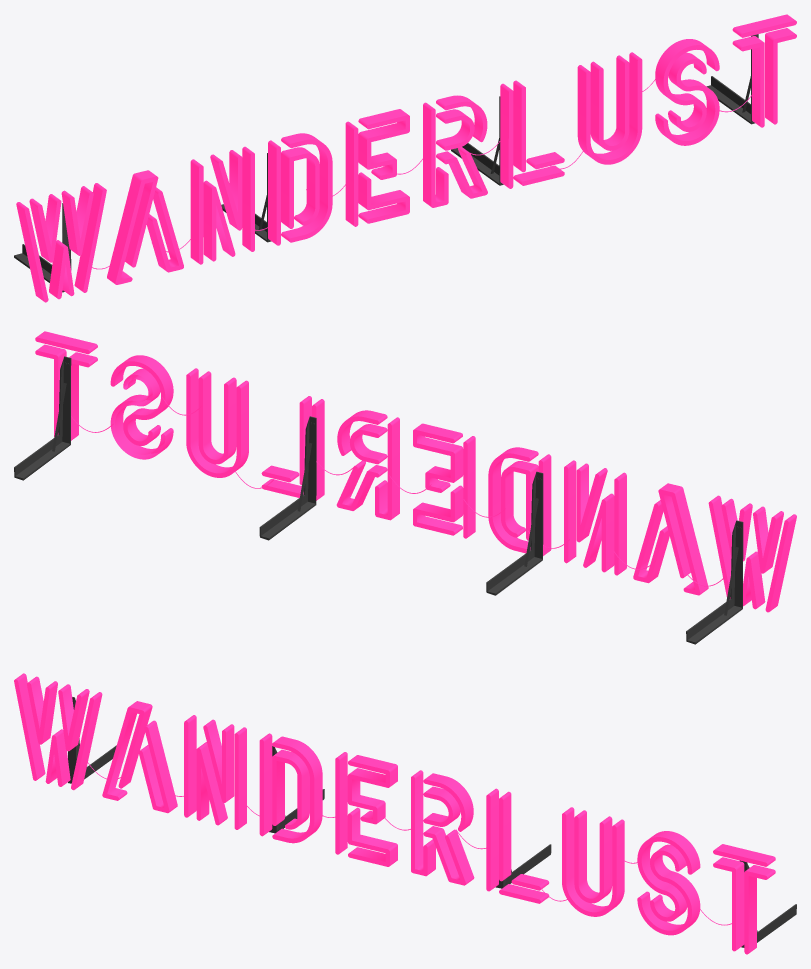
The model's file is low_poly_cartel_neon_4.fbx.
3 renders of one model, top to bottom at view 1: azimuth 30°, elevation 25°; view 2: azimuth 150°, elevation 25°; view 3: azimuth 330°, elevation 25°, orthographic. The views are drawn at different scales.
Visible parts, largest first — view 1: Plane.025; view 2: Plane.025; view 3: Plane.025.
Boxes of the visible parts, x1,y1,x2,y2 form: Plane.025: (14,14,796,302); Plane.025: (14,331,796,644); Plane.025: (14,673,796,954).
Bounding box in the file's own units: 1231 × 156 × 158.
